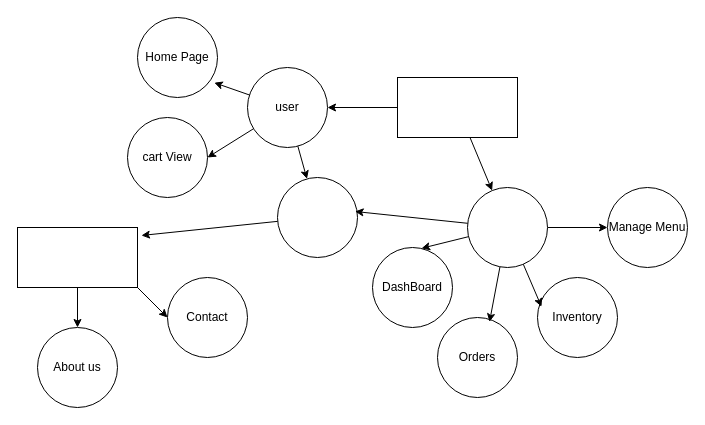
This 705x425 diagram has some shape labels left out. Here are the shapes that lost their labels. From the top down, the box of each, then its label:
(396, 76, 518, 138): Login
(276, 176, 358, 258): logout
(466, 186, 548, 268): admin
(16, 226, 138, 288): Landing Page
